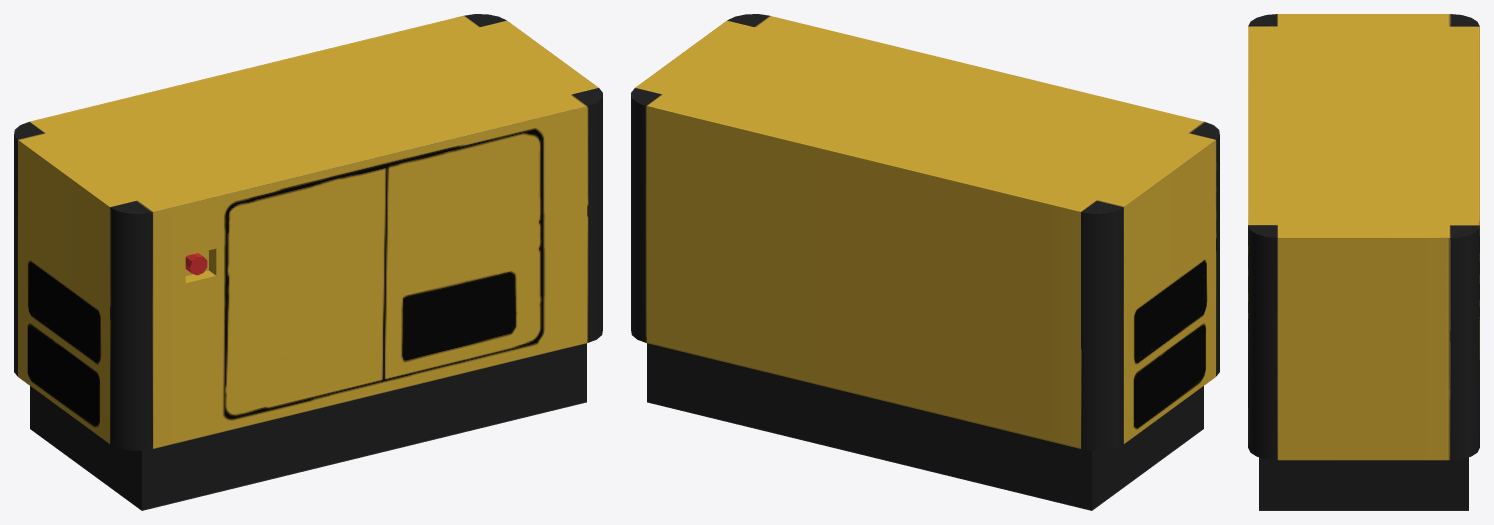
File: Generator.fbx
The picture shows the model from 3 angles, left to right: view 1: azimuth 30°, elevation 25°; view 2: azimuth 150°, elevation 25°; view 3: azimuth 270°, elevation 25°; orthographic projection. The views are drawn at different scales.
Visible parts, largest first — view 1: Generator; view 2: Generator; view 3: Generator.
Boxes of the visible parts, x1,y1,x2,y2 form: Generator: (14,14,602,510); Generator: (631,14,1219,510); Generator: (1248,14,1479,510).
Size of the model in its own units: 450 by 265 by 197.
1 material, 1 textured.
